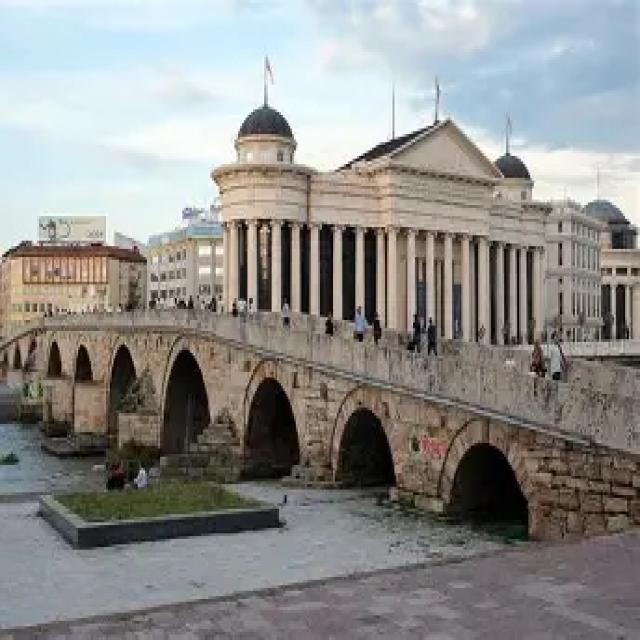Stone Bridge: (5, 279, 640, 547)
